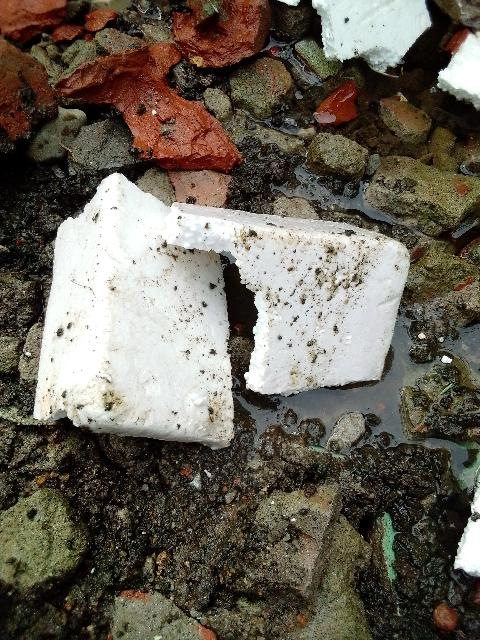cocksheet: (33, 188, 240, 460), (210, 207, 414, 404)
